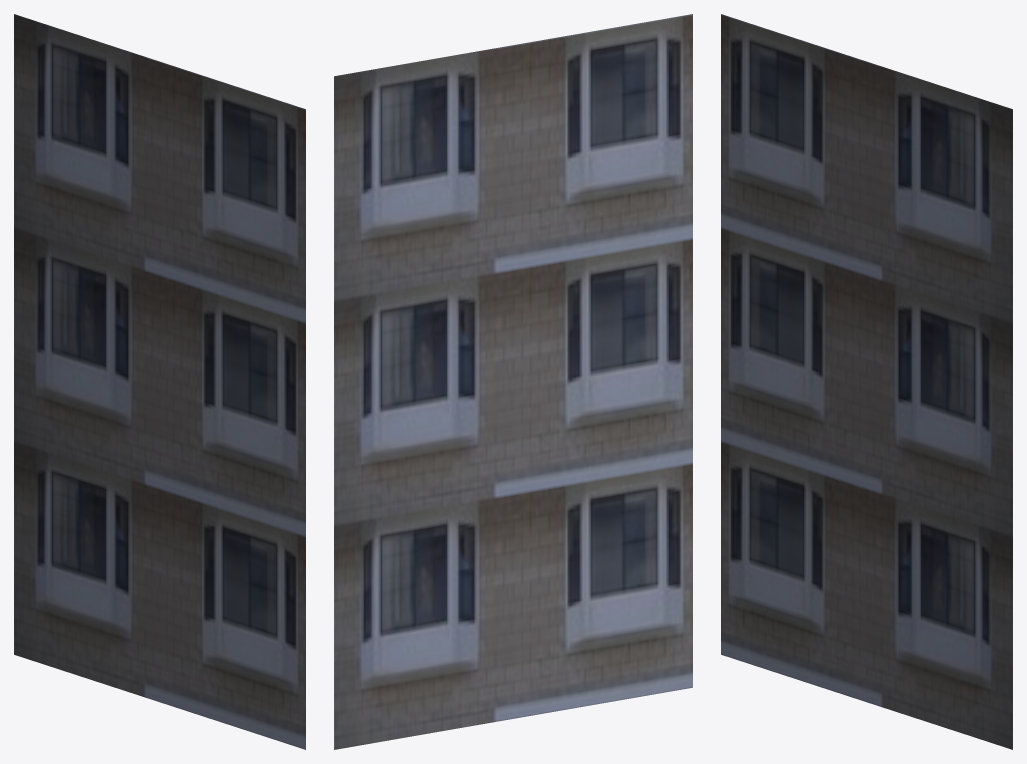
File: ResTex__3690.fbx
3 renders of one model, left to right at view 1: azimuth 90°, elevation 25°; view 2: azimuth 150°, elevation 25°; view 3: azimuth 270°, elevation 25°, orthographic. The views are drawn at different scales.
Parts seen in each view (by area): view 1: CityEngineMaterial_3_m; view 2: CityEngineMaterial_3_m; view 3: CityEngineMaterial_3_m.
Boxes of the visible parts, <box> form: CityEngineMaterial_3_m: <box>14,14,305,749</box>; CityEngineMaterial_3_m: <box>334,14,692,749</box>; CityEngineMaterial_3_m: <box>721,14,1012,749</box>.
Size of the model in its own units: 2.87 by 9 by 3.72.
1 material, 1 textured.
